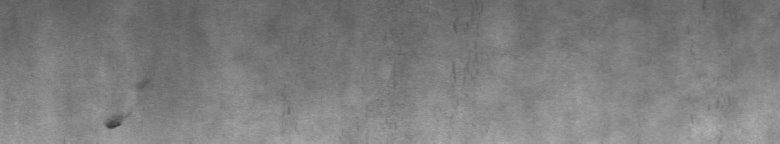fi: (101, 82, 147, 136)
